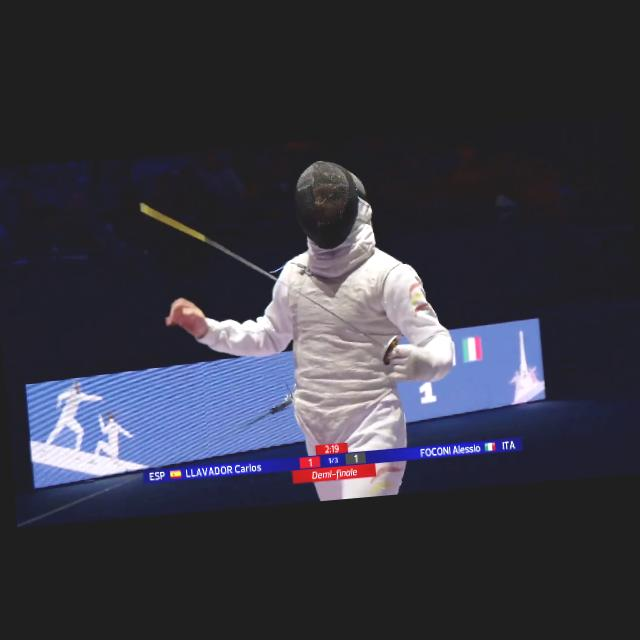blade: (131, 180, 406, 390)
